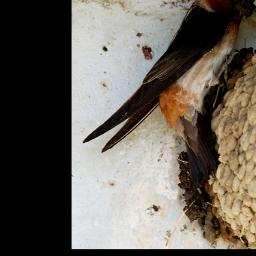Swallow: (81, 0, 256, 156)
